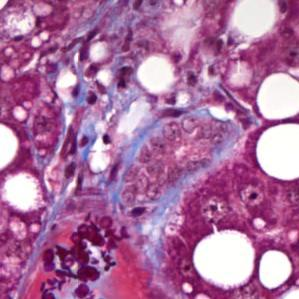steatosis: (193, 227, 258, 291)
